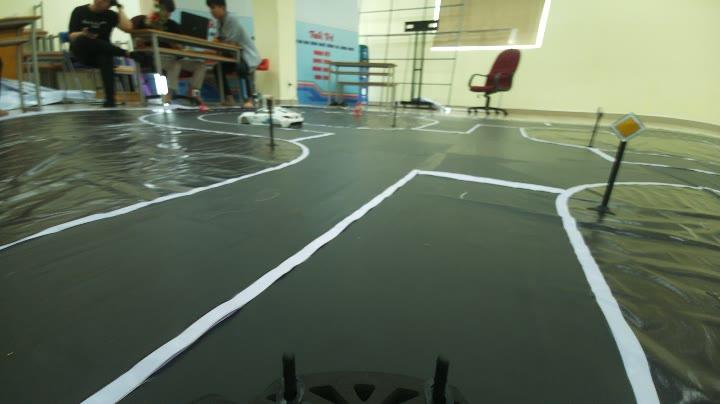priority: (609, 106, 646, 148)
